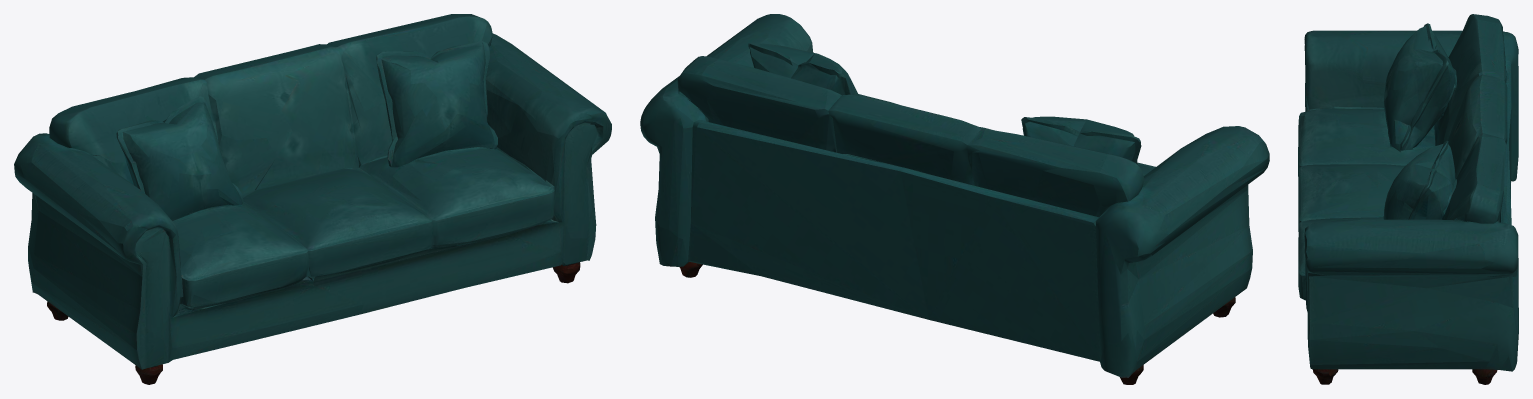
The model's file is sofa.glb.
The picture shows the model from 3 angles, left to right: view 1: azimuth 30°, elevation 25°; view 2: azimuth 150°, elevation 25°; view 3: azimuth 270°, elevation 25°; orthographic projection. The views are drawn at different scales.
Bounding box in the file's own units: 2.1 × 0.85 × 0.9.
Materials: 1 (1 with a texture image).
